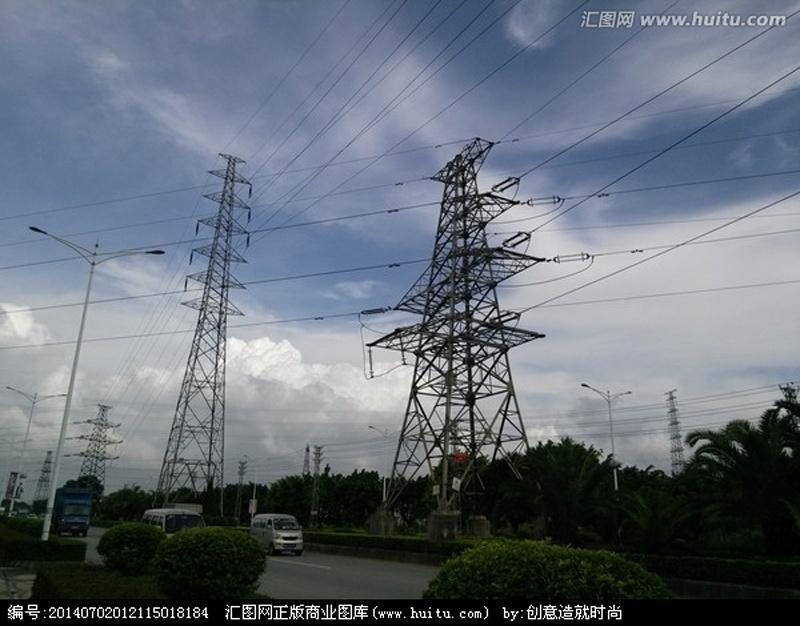power_tower: (370, 121, 552, 539), (153, 155, 270, 516), (75, 400, 123, 490), (664, 386, 687, 472), (310, 443, 324, 531), (30, 446, 52, 500), (234, 457, 247, 514)
